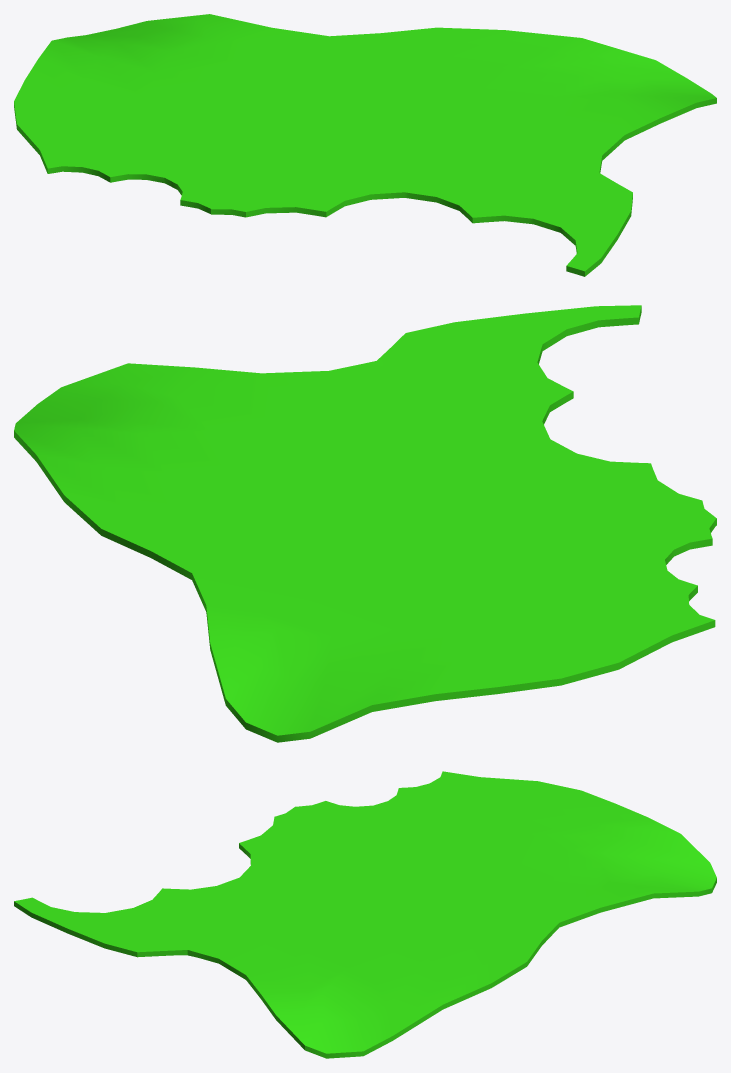
The model's file is salad_3.fbx.
3 views of the same model, one above another, from view 1: azimuth 30°, elevation 25°; view 2: azimuth 150°, elevation 25°; view 3: azimuth 270°, elevation 25° (orthographic). The views are drawn at different scales.
Parts seen in each view (by area): view 1: Salad_0.003; view 2: Salad_0.003; view 3: Salad_0.003.
Boxes of the visible parts, x1,y1,x2,y2 form: Salad_0.003: (14,14,716,276); Salad_0.003: (14,305,716,742); Salad_0.003: (14,771,716,1058).
Bounding box in the file's own units: 264 × 13.1 × 300.
